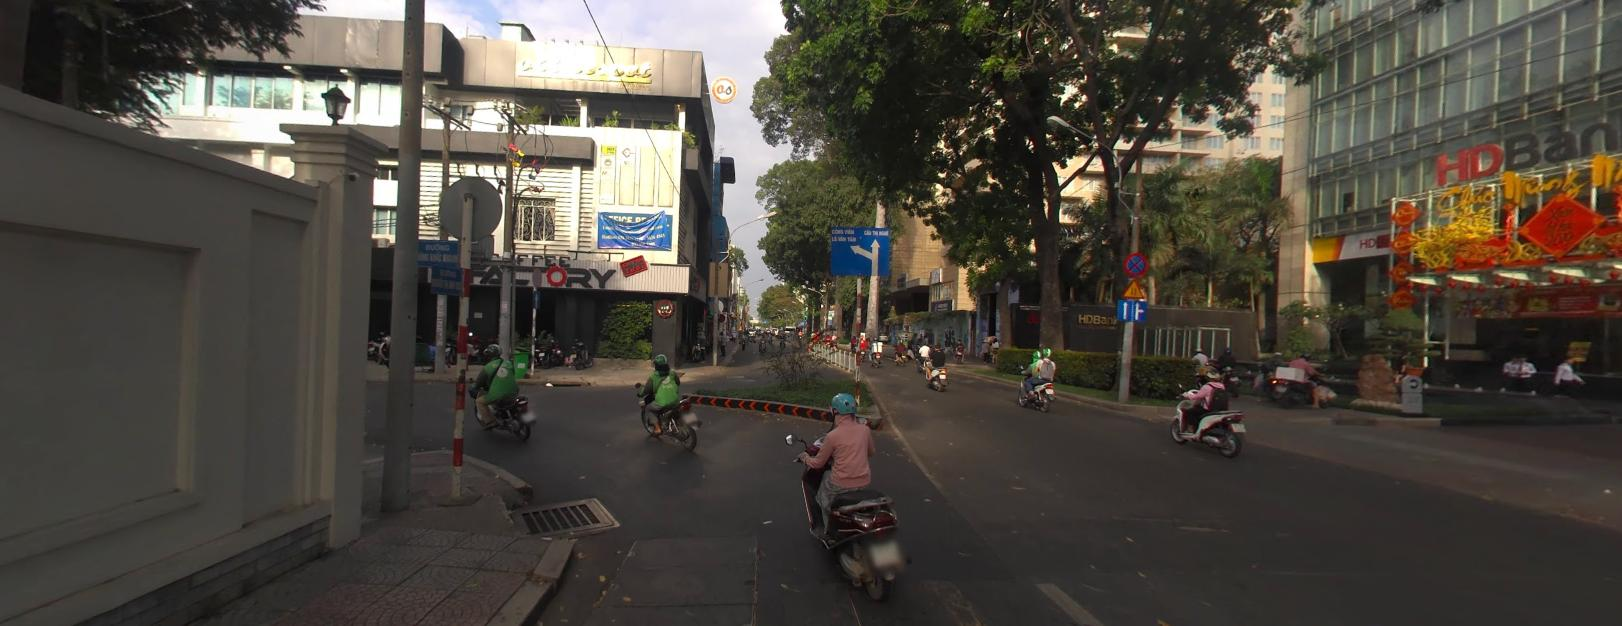Cam dung va do: (1123, 250, 1149, 274)
Nguy hiem: (1120, 276, 1145, 296)
